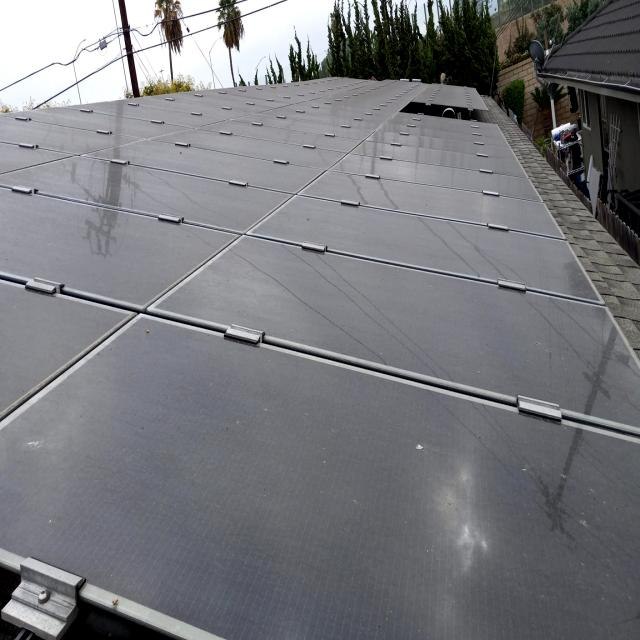dust: (385, 418, 503, 629), (1, 354, 113, 528)
